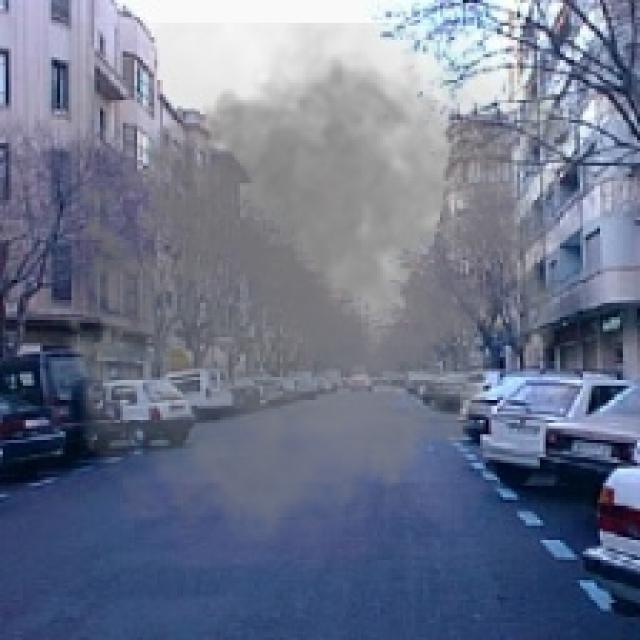smoke: (54, 23, 592, 566)
